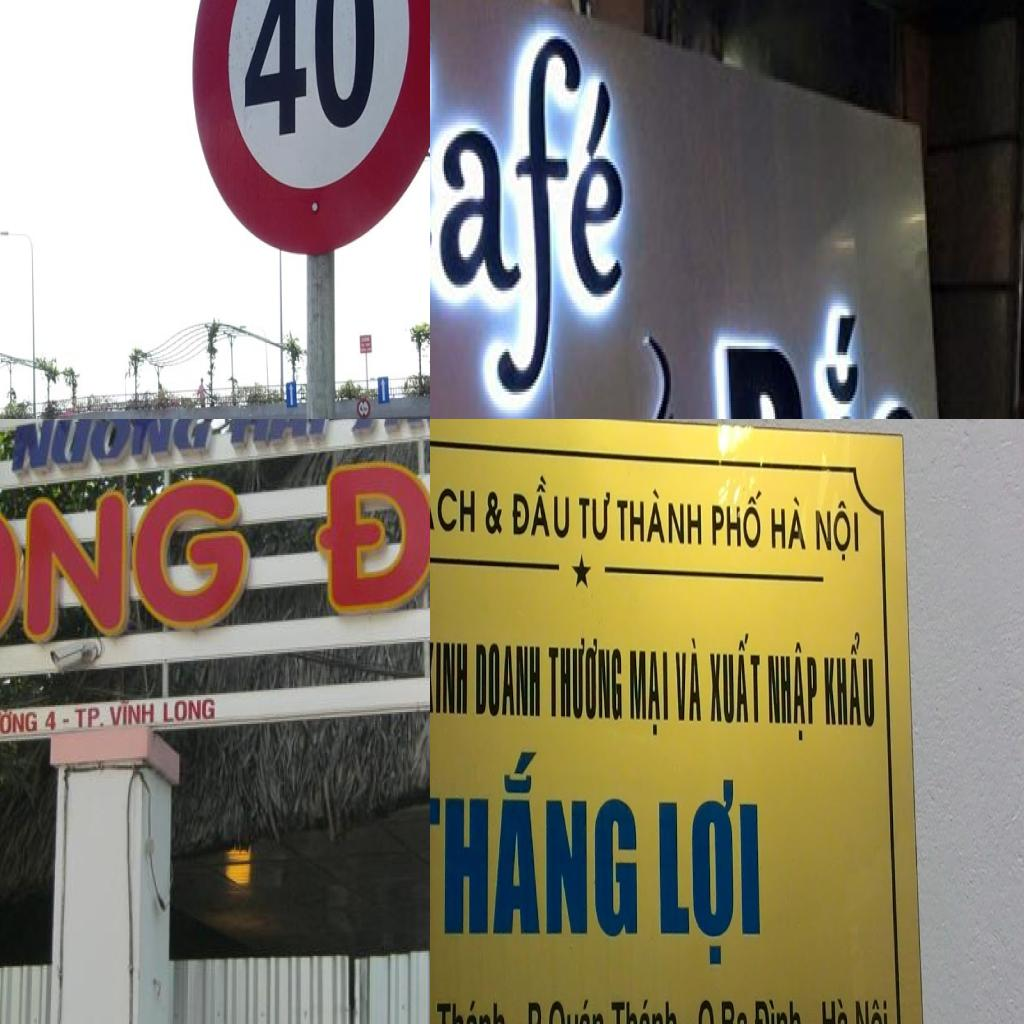text: (430, 0, 638, 419), (0, 469, 251, 705), (430, 750, 638, 936), (314, 433, 430, 650), (713, 312, 937, 419), (239, 0, 381, 148), (659, 775, 762, 969), (10, 419, 217, 473), (548, 637, 622, 723), (822, 631, 876, 731), (615, 486, 702, 547), (768, 641, 818, 744), (475, 642, 542, 718), (709, 631, 762, 725), (512, 473, 571, 541), (629, 649, 670, 738), (712, 487, 764, 549), (814, 498, 860, 565), (430, 641, 468, 716), (231, 419, 335, 445), (430, 483, 476, 541), (674, 635, 702, 723), (770, 493, 808, 551), (527, 997, 605, 1024), (578, 489, 612, 543), (435, 1000, 508, 1024), (611, 998, 678, 1024), (161, 695, 216, 724), (107, 697, 156, 729), (696, 998, 750, 1024), (753, 999, 802, 1024), (0, 706, 39, 737), (73, 705, 107, 731), (855, 998, 889, 1024), (485, 490, 504, 536), (820, 998, 850, 1024), (43, 708, 59, 732)
